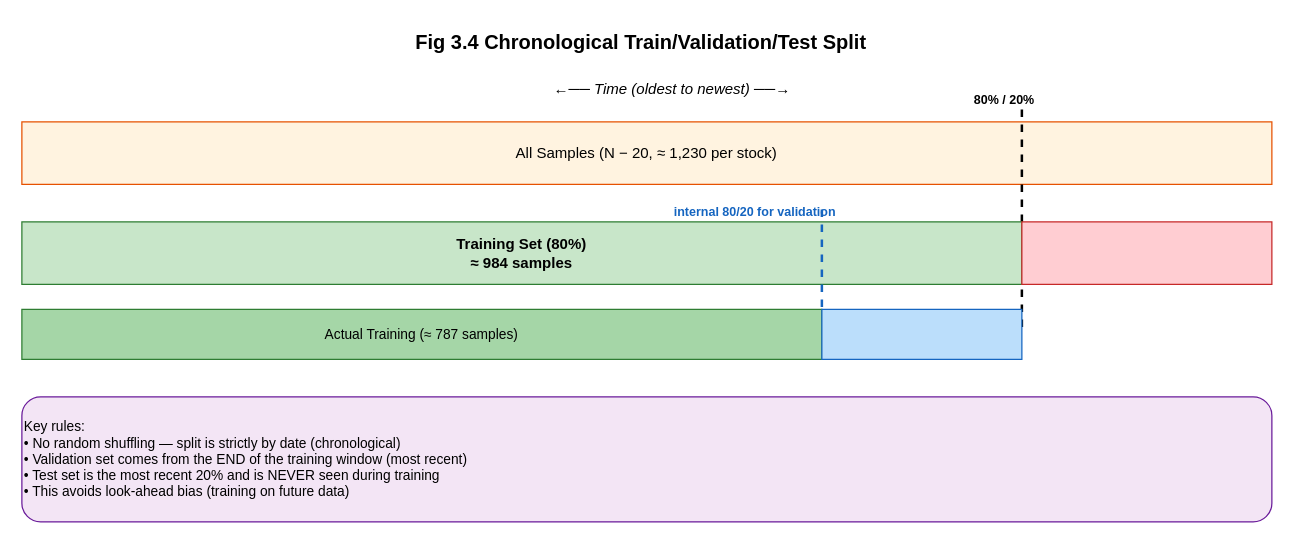
The diagram is 1294 pixels wide and 544 high, and some of its shapes have lost their labels. Here are the shapes that lost their labels. From the top down, the box of each, then its label:
(1021, 221, 1272, 284): Test Set (20%) ≈ 246 samples (held out)
(821, 308, 1022, 359): Validation (≈ 197)
